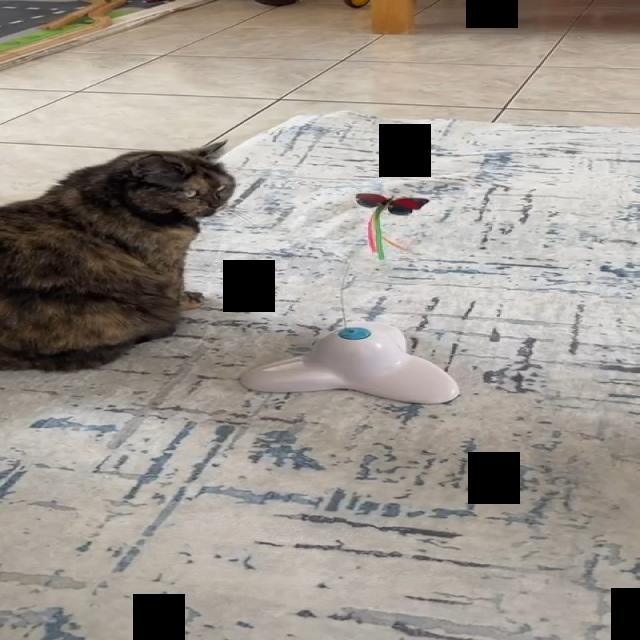authorized: (0, 139, 236, 372)
